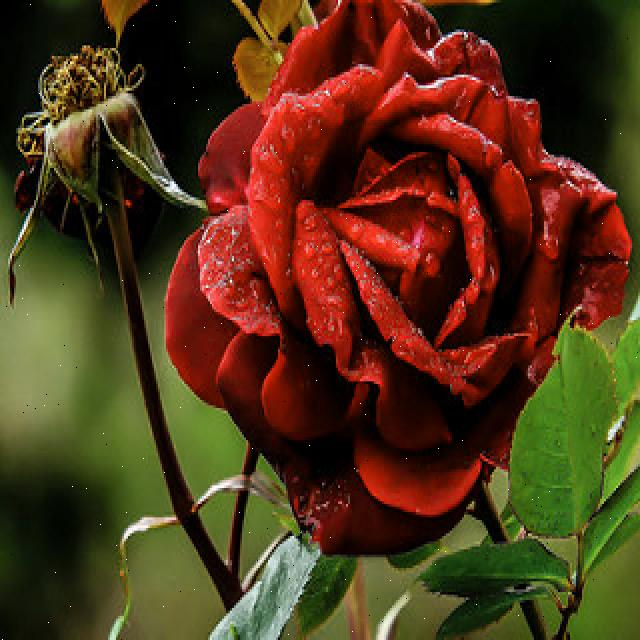Bloomed: (160, 0, 632, 557)
